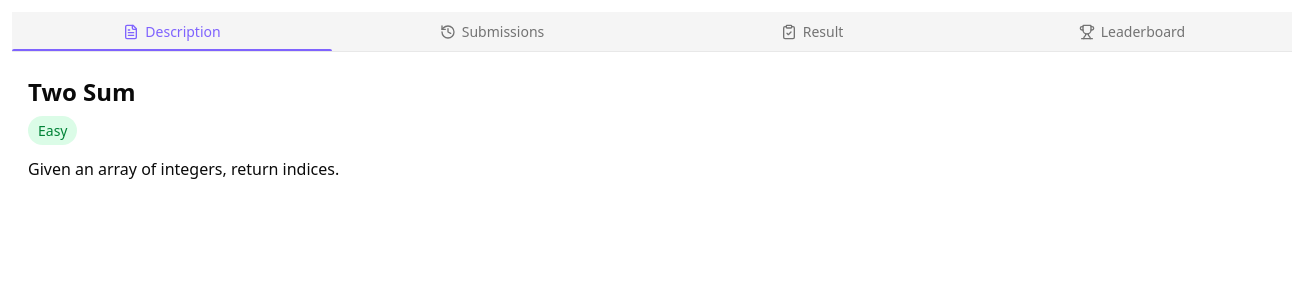
Test case: CodeDescArea — tab switching › switches back to description after visiting another tab
Expected: the element with test id "tabs-list" is shown, x1=12 y1=12 x2=1292 y2=52
Click the tab "Submissions". click: (492, 32)
box: x1=332 y1=12 x2=652 y2=51
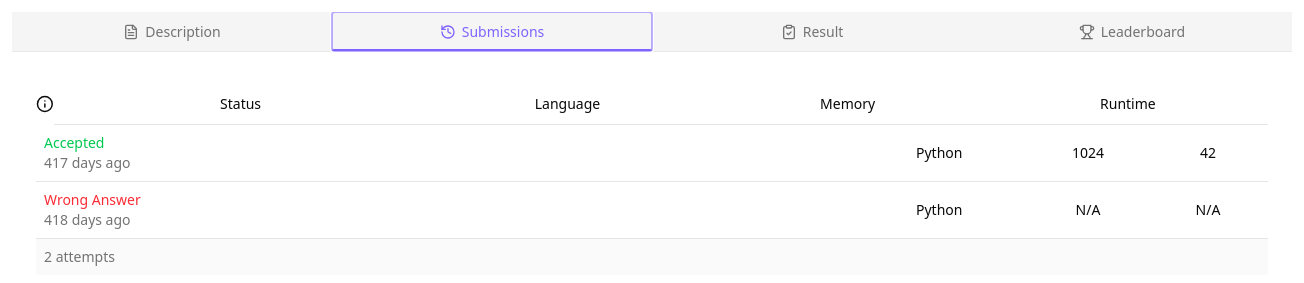
Click the tab "Description". click: (172, 32)
box: x1=12 y1=12 x2=332 y2=51
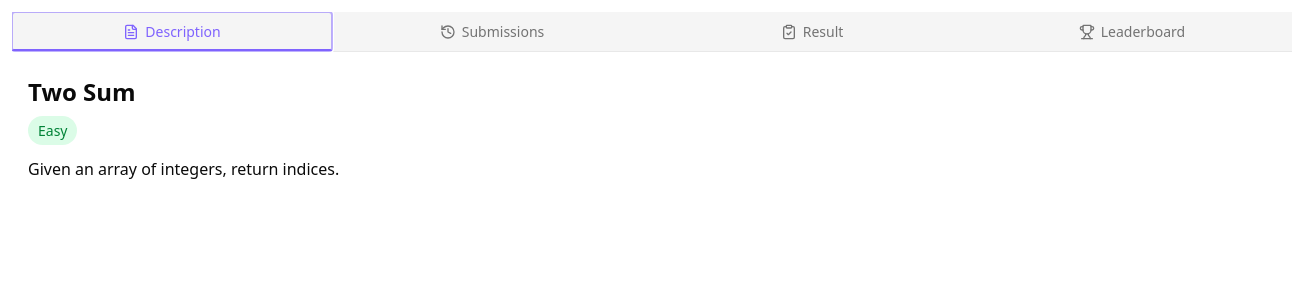
Expected: the heading "Two Sum" is shown, x1=28 y1=76 x2=136 y2=108
